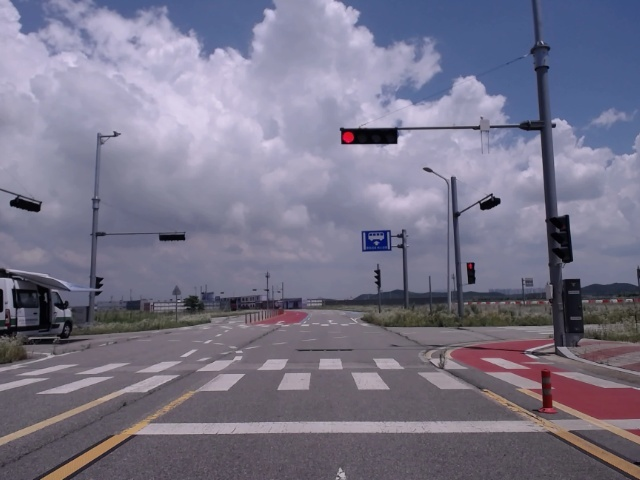red_4: (341, 130, 397, 144)
